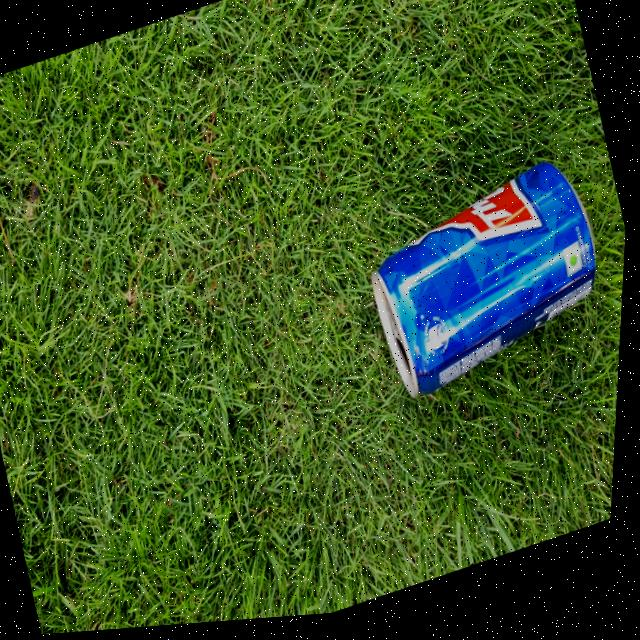Thums Up: (346, 150, 628, 423)
